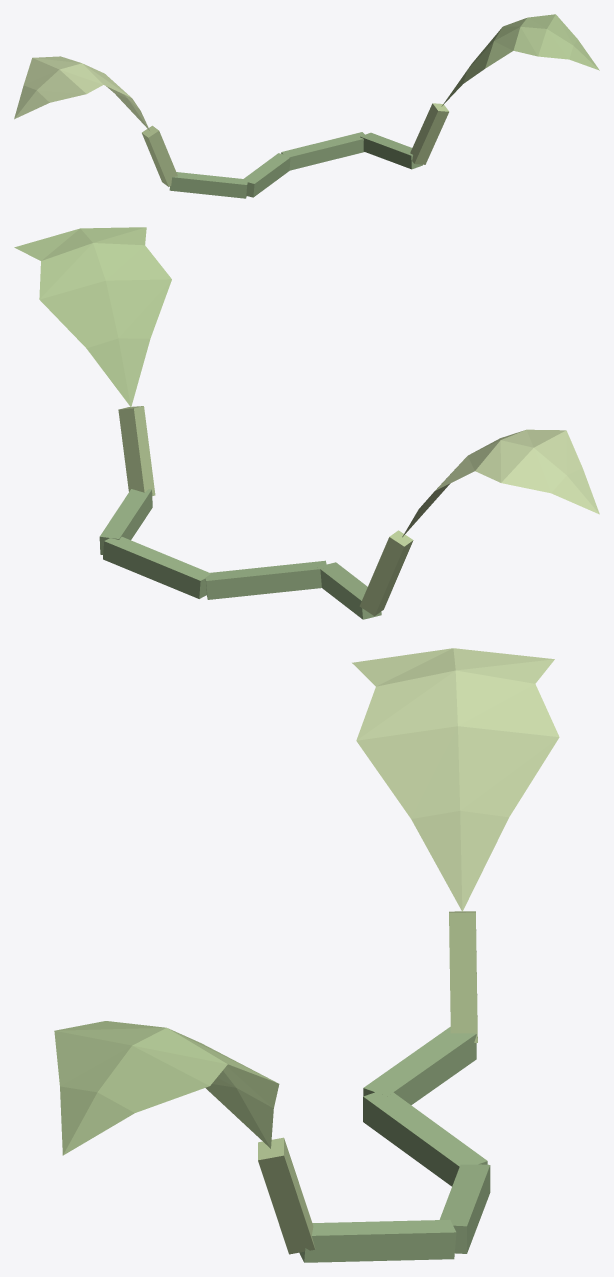
File: crafted-crop-pumpkin-0.glb
3 renders of one model, top to bottom at view 1: azimuth 30°, elevation 25°; view 2: azimuth 150°, elevation 25°; view 3: azimuth 270°, elevation 25°, orthographic. The views are drawn at different scales.
Parts seen in each view (by area): view 1: vine-leaf, vine-leaf-1, vine-0, vine-1-1, leaf-petiole, vine-1, vine-0-1, leaf-petiole-1; view 2: vine-leaf, vine-leaf-1, vine-0-1, vine-0, leaf-petiole, leaf-petiole-1, vine-1, vine-1-1; view 3: vine-leaf-1, vine-leaf, vine-1, vine-0-1, vine-1-1, leaf-petiole, leaf-petiole-1, vine-0.
Boxes of the visible parts, x1,y1,x2,y2 form: vine-leaf: (441, 14, 599, 106); vine-leaf-1: (14, 56, 149, 130); vine-0: (281, 132, 364, 170); vine-1-1: (169, 172, 248, 198); leaf-petiole: (410, 103, 448, 164); vine-1: (360, 132, 422, 169); vine-0-1: (241, 153, 290, 197); leaf-petiole-1: (142, 125, 177, 186); vine-leaf: (14, 227, 171, 407); vine-leaf-1: (402, 429, 599, 537); vine-0-1: (205, 560, 327, 599); vine-0: (103, 536, 210, 598); leaf-petiole: (118, 406, 155, 495); leaf-petiole-1: (359, 530, 413, 615); vine-1: (99, 489, 152, 554); vine-1-1: (317, 562, 381, 619); vine-leaf-1: (352, 648, 559, 911); vine-leaf: (54, 1021, 279, 1155); vine-1: (299, 1219, 456, 1262); vine-0-1: (363, 1088, 487, 1186); vine-1-1: (363, 1027, 476, 1105); leaf-petiole: (258, 1137, 315, 1254); leaf-petiole-1: (449, 911, 477, 1042); vine-0: (439, 1164, 490, 1253).
Bounding box in the file's own units: 0.4198 × 0.1308 × 0.1877.
